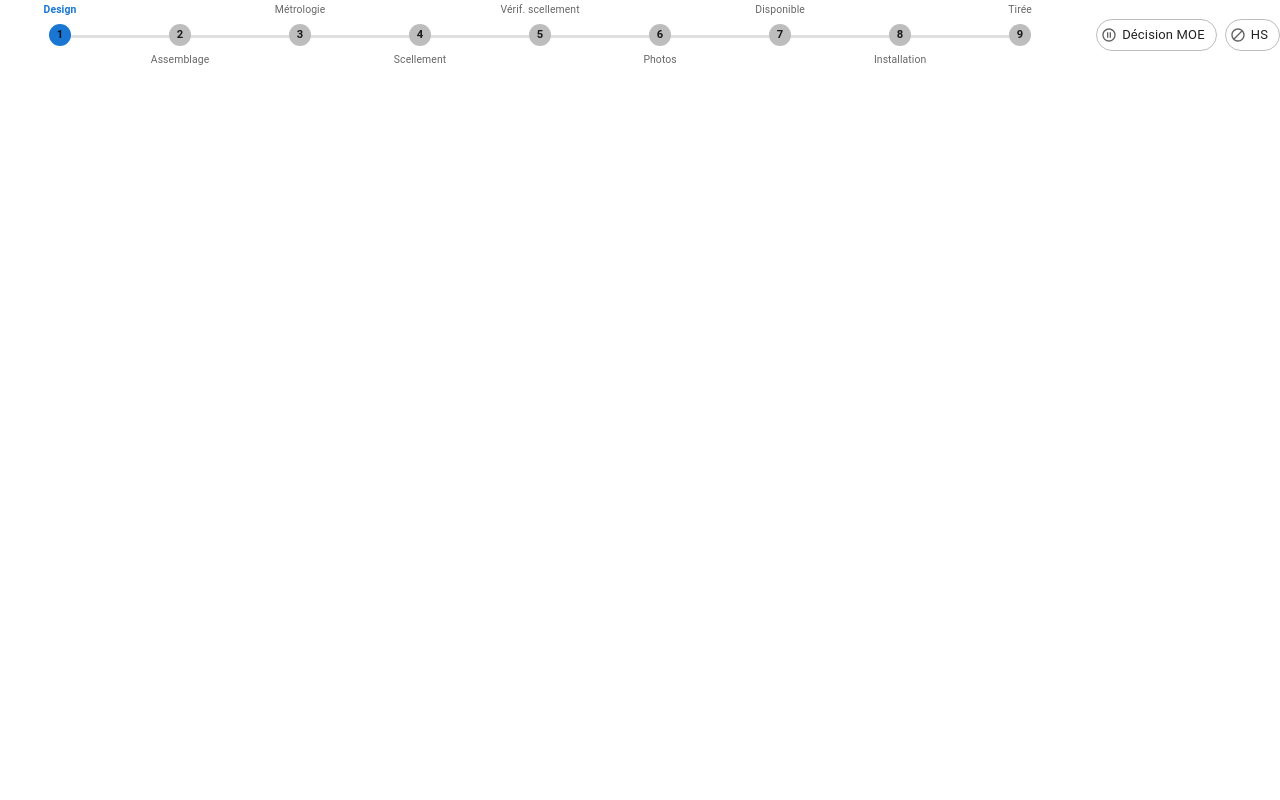
it: FsecWorkflowStepper › Step Click Interactions › should close dialog when clicking cancel
The width and height of the screenshot is (1280, 800).
What coordinates should you click on to do the following:
click the text "2"
I would click on:
 (180, 35)
Its box is [169,24,191,46].
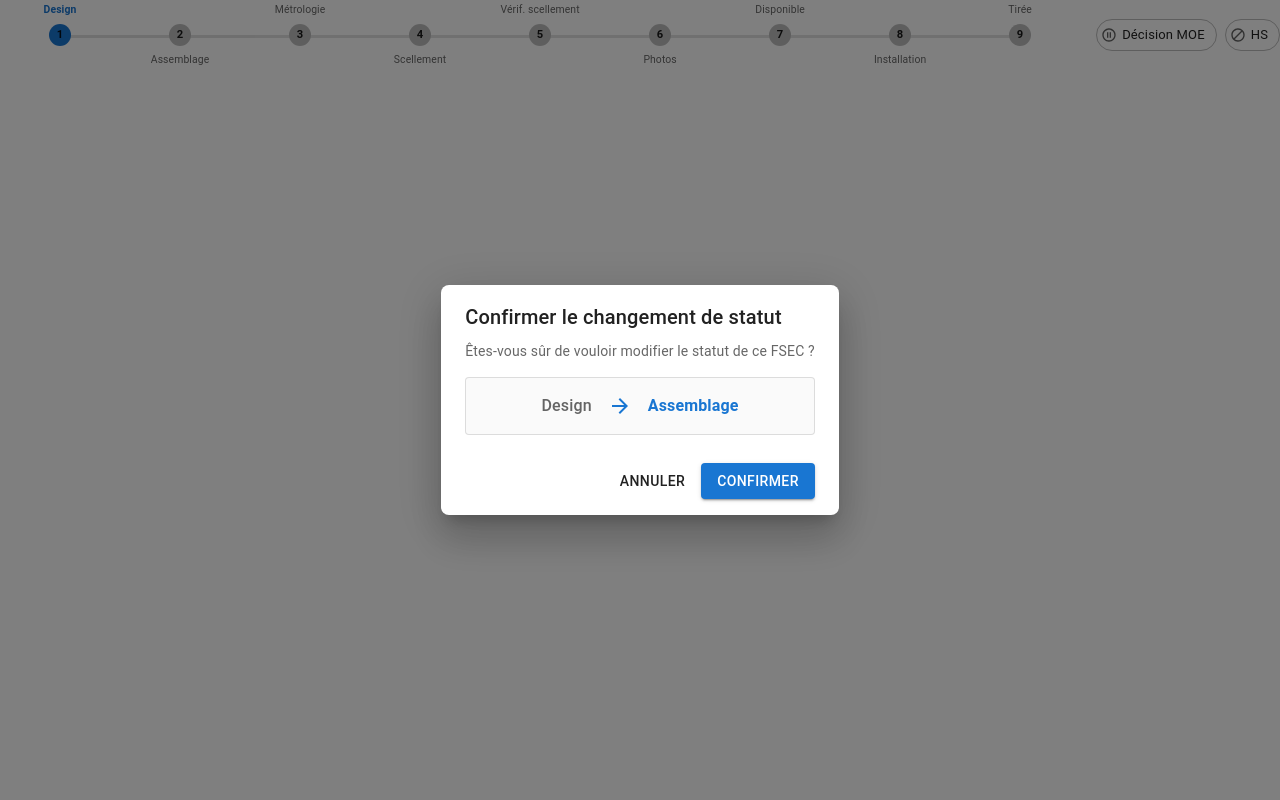
Expected: the heading "Confirmer le changement de statut" is shown, [465,305,782,329]
What coordinates should you click on to do the following:
click the button "Annuler"
I would click on:
 (652, 481)
Its box is [612,463,693,499].
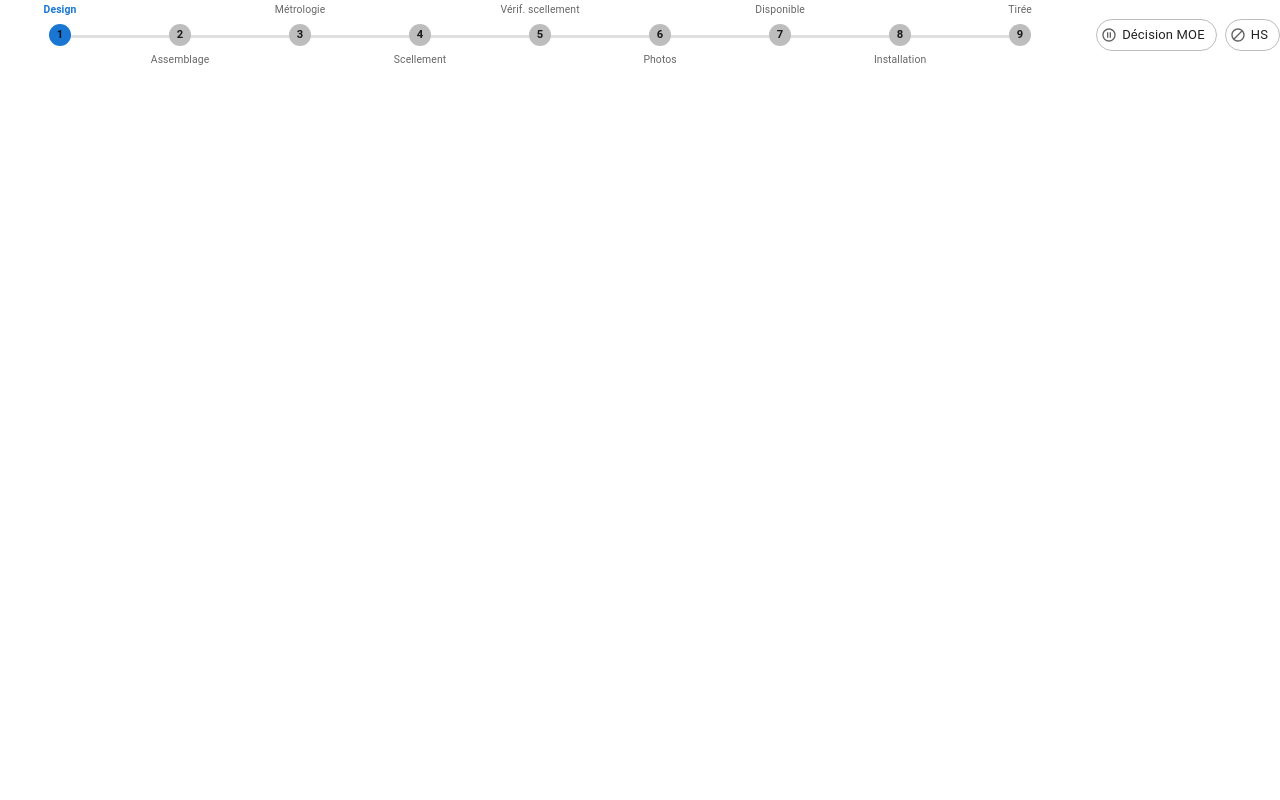
Expected: the heading "Confirmer le changement de statut" is gone
